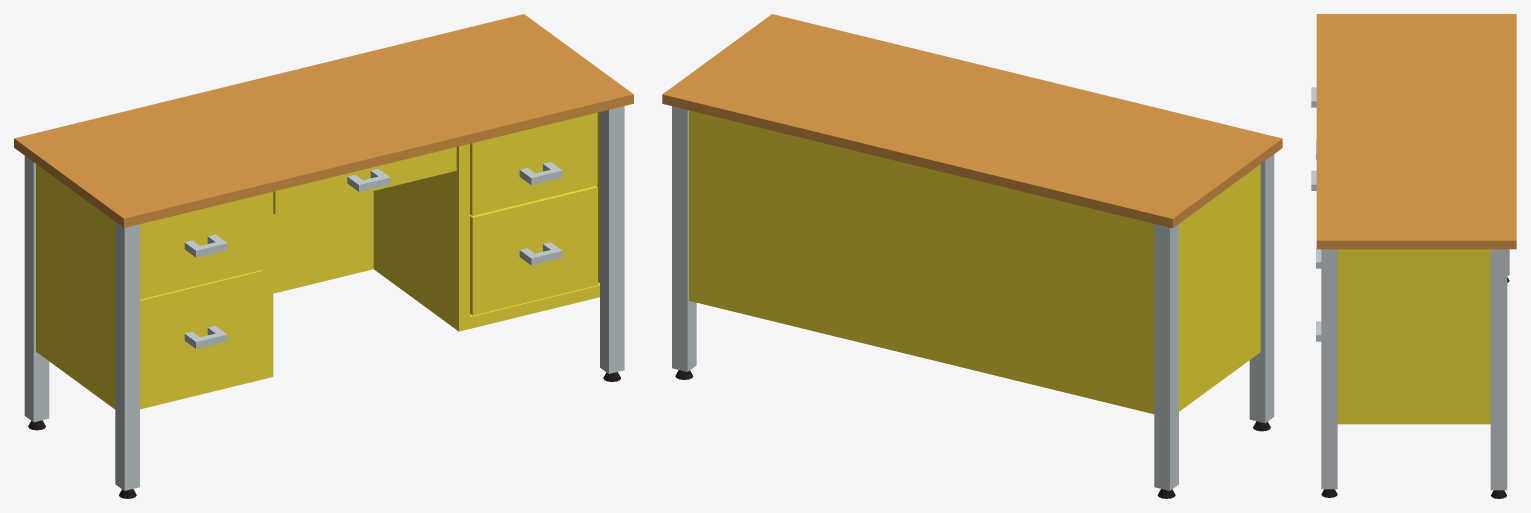
Rendered from OfficeDesk.fbx.
3 renders of one model, left to right at view 1: azimuth 30°, elevation 25°; view 2: azimuth 150°, elevation 25°; view 3: azimuth 270°, elevation 25°, orthographic. The views are drawn at different scales.
Visible parts, largest first — view 1: DeskBody, Drawer_RightBottom, Drawer_LeftBottom, Drawer_RightTop, Drawer_LeftTop, Drawer_Center; view 2: DeskBody; view 3: DeskBody.
Part boxes in pixels (<box>): DeskBody: <box>14,14,633,498</box>; Drawer_RightBottom: <box>470,186,597,315</box>; Drawer_LeftBottom: <box>140,270,262,398</box>; Drawer_RightTop: <box>470,112,597,215</box>; Drawer_LeftTop: <box>140,194,262,299</box>; Drawer_Center: <box>273,147,456,214</box>; DeskBody: <box>662,14,1282,498</box>; DeskBody: <box>1316,14,1516,498</box>.
Size of the model in its own units: 1.53 by 0.8202 by 0.5866.
